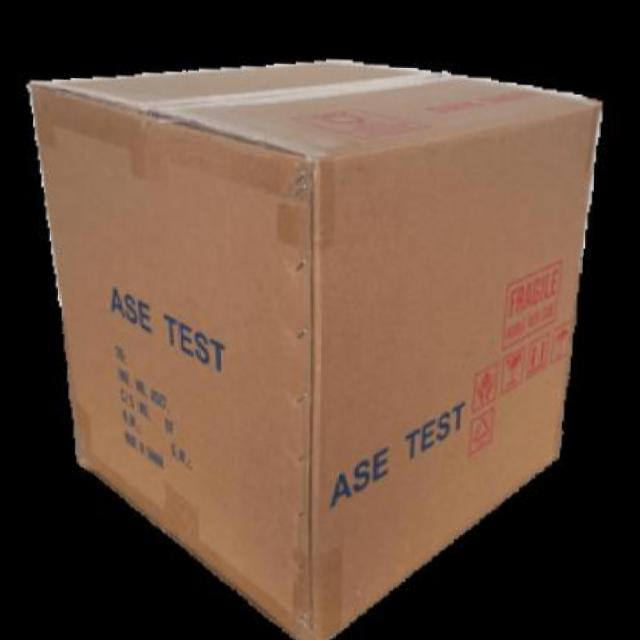box: (9, 30, 616, 640)
